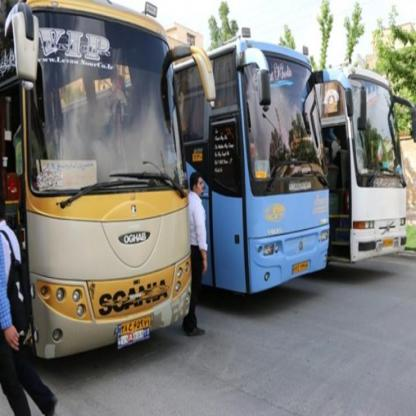Bus: (0, 0, 199, 350), (177, 32, 334, 292), (316, 58, 416, 269)
